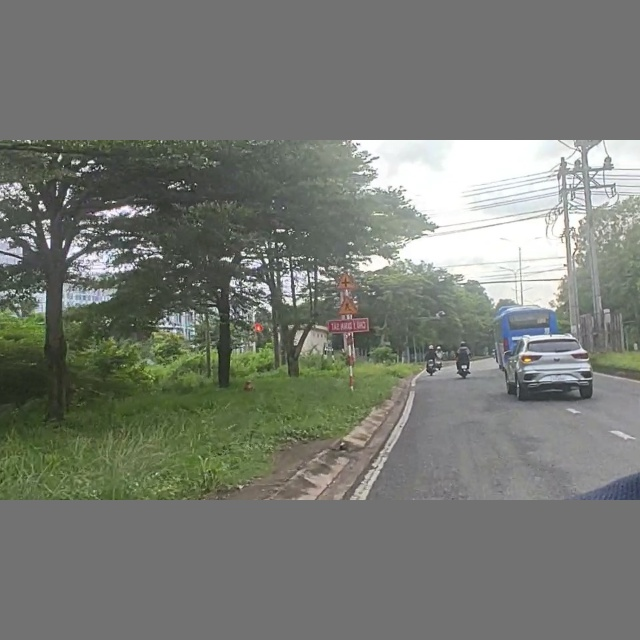W.205a: (334, 271, 358, 291)
W.224: (336, 297, 360, 315)
